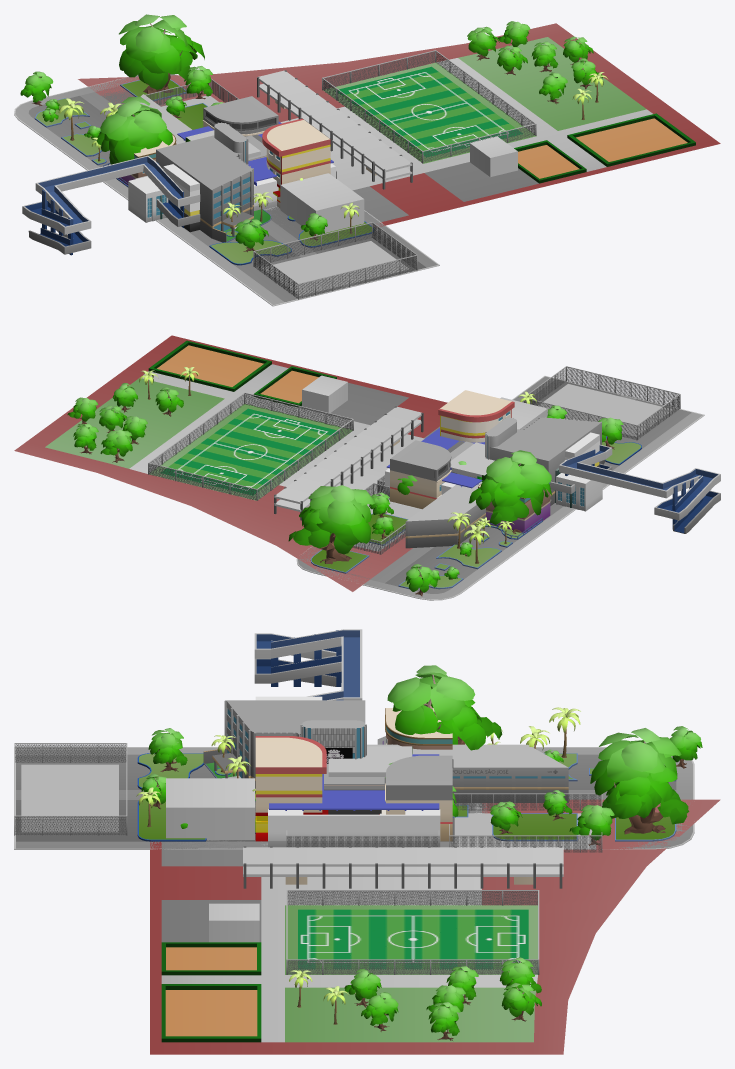
The model's file is Cenarios Finais.fbx.
3 renders of one model, top to bottom at view 1: azimuth 30°, elevation 25°; view 2: azimuth 150°, elevation 25°; view 3: azimuth 270°, elevation 25°, orthographic. The views are drawn at different scales.
Parts seen in each view (by area): view 1: Potiguar, Praca Telemar, Policlinica, Plane, Polo Gastronomico Mercado, Polo Gastronomico Sorvete, Prefeitura, Luta, Polo Gastronomico Boteco; view 2: Potiguar, Praca Telemar, Policlinica, Plane, Polo Gastronomico Sorvete, Polo Gastronomico Mercado, Prefeitura, Reabilitacao, Luta, Polo Gastronomico Loja, Polo Gastronomico Boteco; view 3: Potiguar, Praca Telemar, Policlinica, Luta, Plane, Polo Gastronomico Mercado, Polo Gastronomico Sorvete, Reabilitacao, Polo Gastronomico Loja.
Boxes of the visible parts, bbox=[...] form: Potiguar: bbox=[78, 21, 720, 234]; Praca Telemar: bbox=[14, 14, 439, 306]; Policlinica: bbox=[140, 94, 272, 242]; Plane: bbox=[22, 155, 200, 255]; Polo Gastronomico Mercado: bbox=[262, 118, 330, 208]; Polo Gastronomico Sorvete: bbox=[202, 96, 278, 136]; Prefeitura: bbox=[128, 176, 168, 222]; Luta: bbox=[177, 121, 335, 210]; Polo Gastronomico Boteco: bbox=[163, 164, 199, 232]; Potiguar: bbox=[14, 335, 547, 591]; Praca Telemar: bbox=[288, 366, 704, 600]; Policlinica: bbox=[405, 417, 605, 548]; Plane: bbox=[550, 444, 720, 533]; Polo Gastronomico Sorvete: bbox=[390, 440, 451, 509]; Polo Gastronomico Mercado: bbox=[438, 390, 514, 442]; Prefeitura: bbox=[555, 468, 602, 511]; Reabilitacao: bbox=[450, 442, 494, 481]; Luta: bbox=[385, 428, 484, 496]; Polo Gastronomico Loja: bbox=[478, 482, 551, 532]; Polo Gastronomico Boteco: bbox=[564, 432, 599, 467]; Potiguar: bbox=[150, 778, 720, 1054]; Praca Telemar: bbox=[14, 665, 702, 849]; Policlinica: bbox=[203, 700, 568, 802]; Luta: bbox=[268, 754, 440, 847]; Plane: bbox=[254, 629, 362, 700]; Polo Gastronomico Mercado: bbox=[255, 736, 328, 841]; Polo Gastronomico Sorvete: bbox=[379, 755, 453, 841]; Reabilitacao: bbox=[328, 746, 412, 777]; Polo Gastronomico Loja: bbox=[377, 708, 452, 749].
Size of the model in its own units: 7954 by 938 by 6310.
